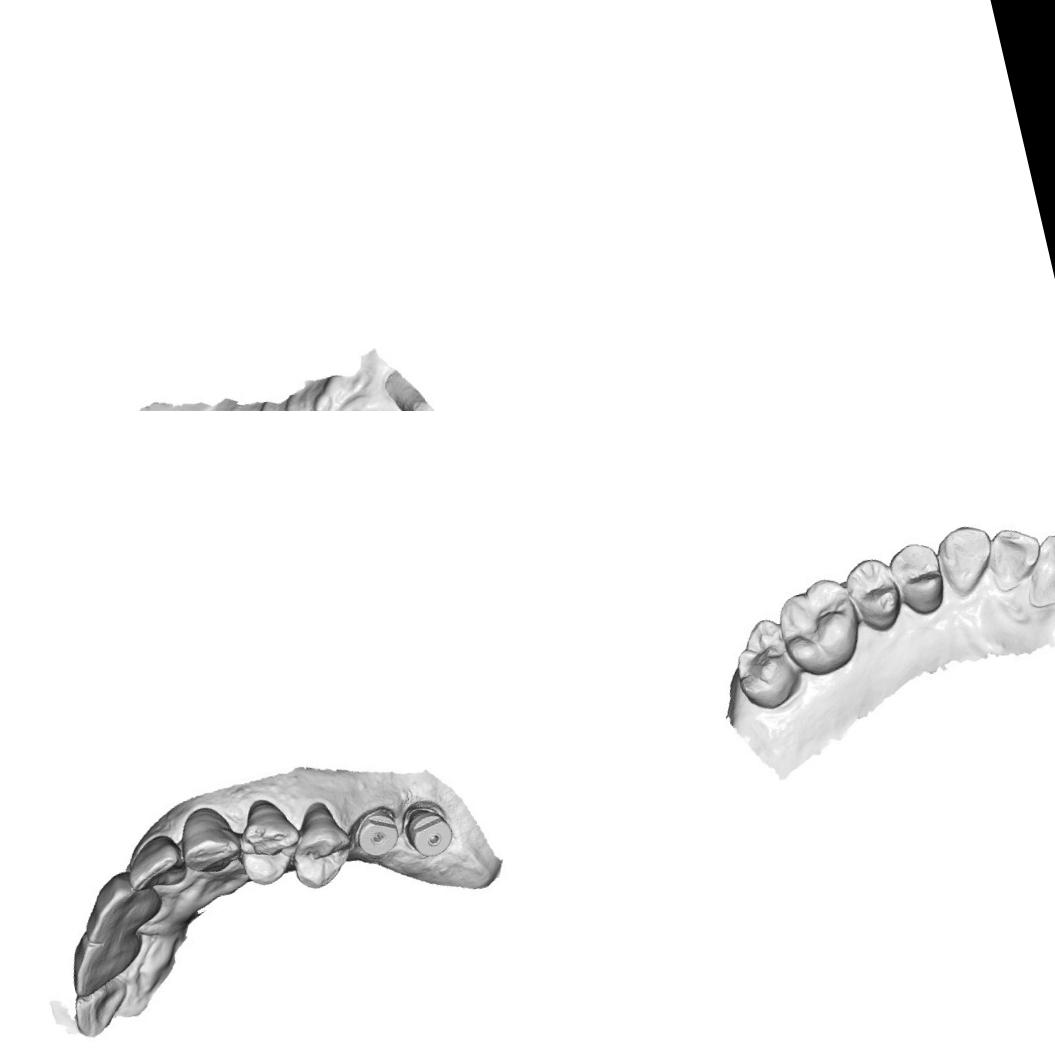canine: (931, 519, 1003, 600), (174, 806, 238, 872)
implant: (346, 798, 406, 862), (404, 802, 460, 863)
incisor: (60, 926, 151, 991), (81, 868, 164, 938), (68, 977, 146, 1036), (982, 524, 1042, 594), (117, 835, 183, 891), (1020, 526, 1055, 612)
molar: (724, 610, 818, 719), (774, 574, 868, 678)
premolar: (227, 790, 305, 885), (285, 800, 358, 889), (882, 538, 952, 612), (846, 556, 906, 637)
